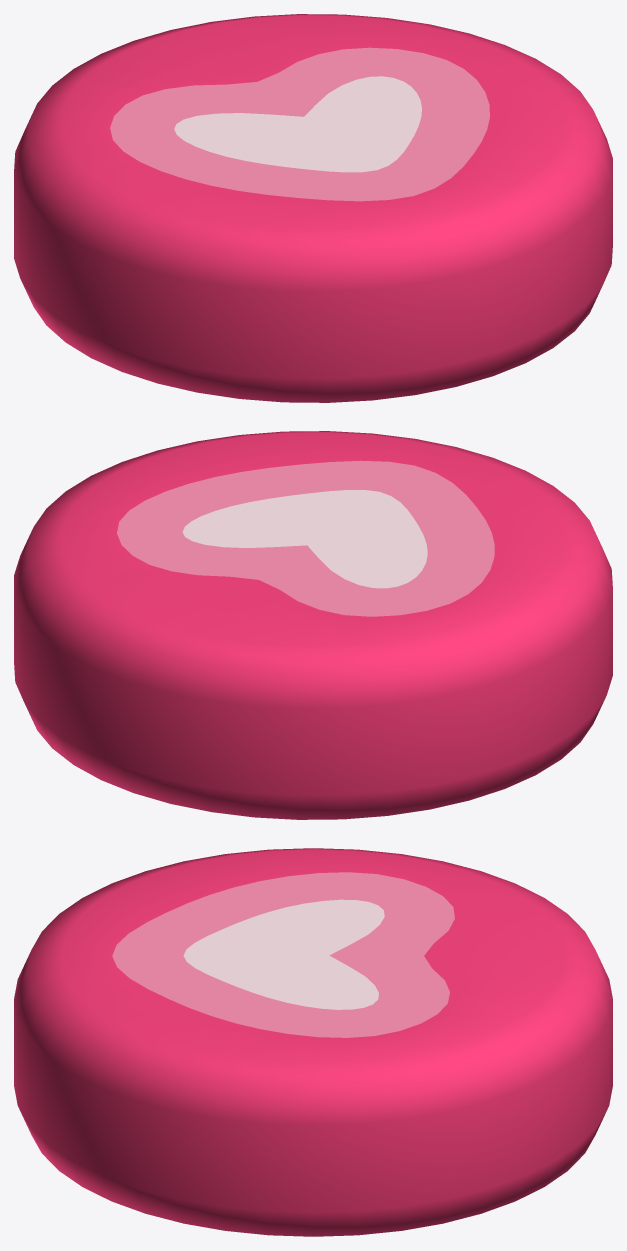
The model's file is Store_8_Candy_3.glb.
3 renders of one model, top to bottom at view 1: azimuth 30°, elevation 25°; view 2: azimuth 150°, elevation 25°; view 3: azimuth 270°, elevation 25°, orthographic.
Visible parts, largest first — view 1: Store_8_Candy_3; view 2: Store_8_Candy_3; view 3: Store_8_Candy_3.
Boxes of the visible parts, left/top/right/bottom form: Store_8_Candy_3: left=14, top=14, right=612, bottom=402; Store_8_Candy_3: left=14, top=431, right=612, bottom=819; Store_8_Candy_3: left=14, top=848, right=612, bottom=1236.
Bounding box in the file's own units: 0.5355 × 0.17 × 0.5355.
1 material, 1 textured.
